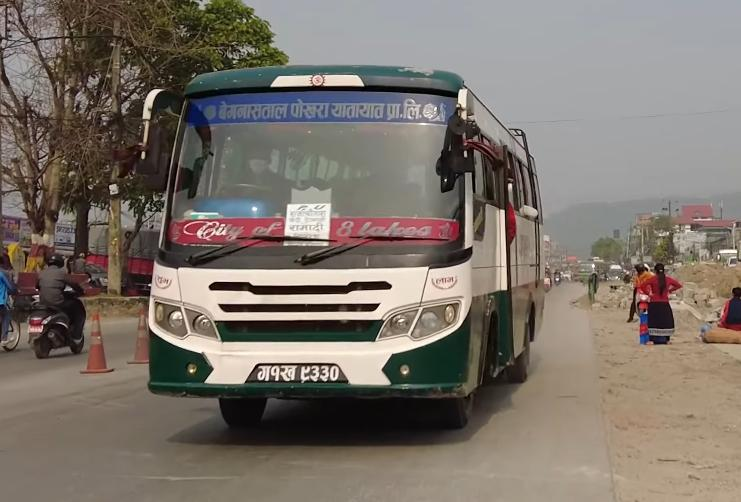bus: (132, 56, 551, 439)
